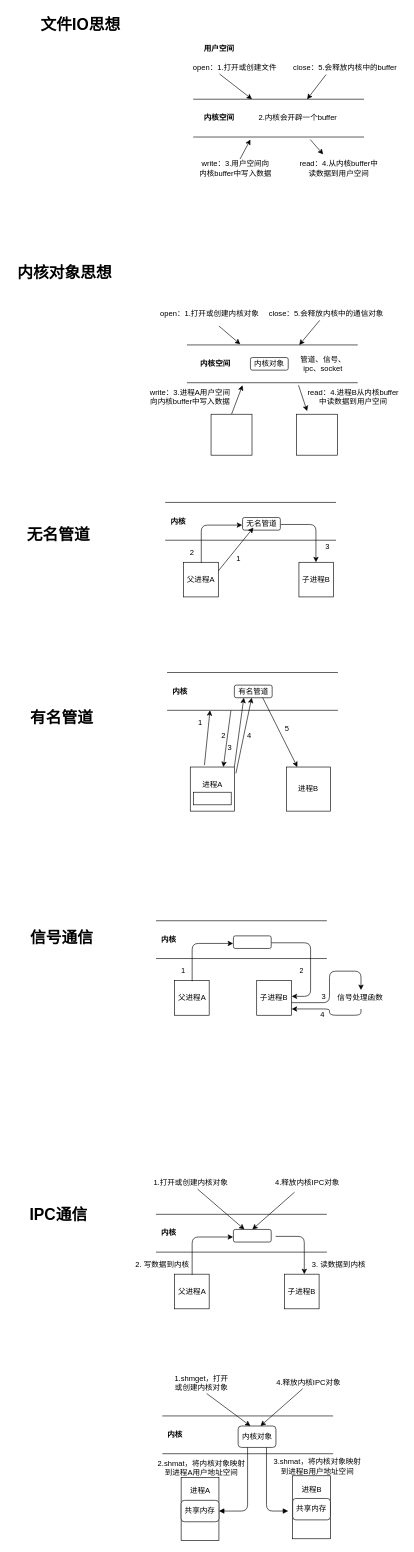
This 414x1552 diagram has some shape labels left out. Each missing label, with the box of its shape:
IPC对象: (233, 1229, 271, 1242)
myfifo: (193, 792, 231, 805)
信号: (233, 935, 271, 948)
进程A 用户空间: (210, 414, 252, 455)
进程B 用户空间: (296, 414, 337, 455)
